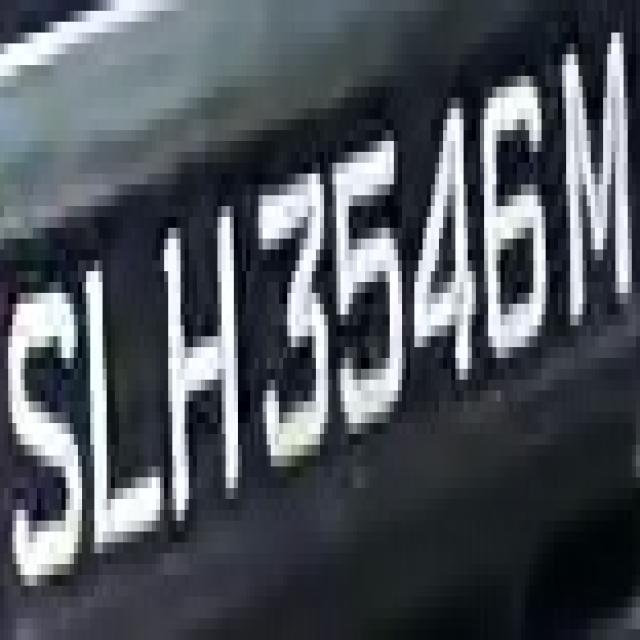3: (242, 152, 332, 510)
4: (406, 98, 484, 434)
5: (328, 108, 410, 456)
6: (468, 76, 554, 412)
H: (156, 206, 246, 521)
L: (86, 228, 164, 564)
M: (542, 32, 628, 326)
S: (4, 250, 94, 608)
